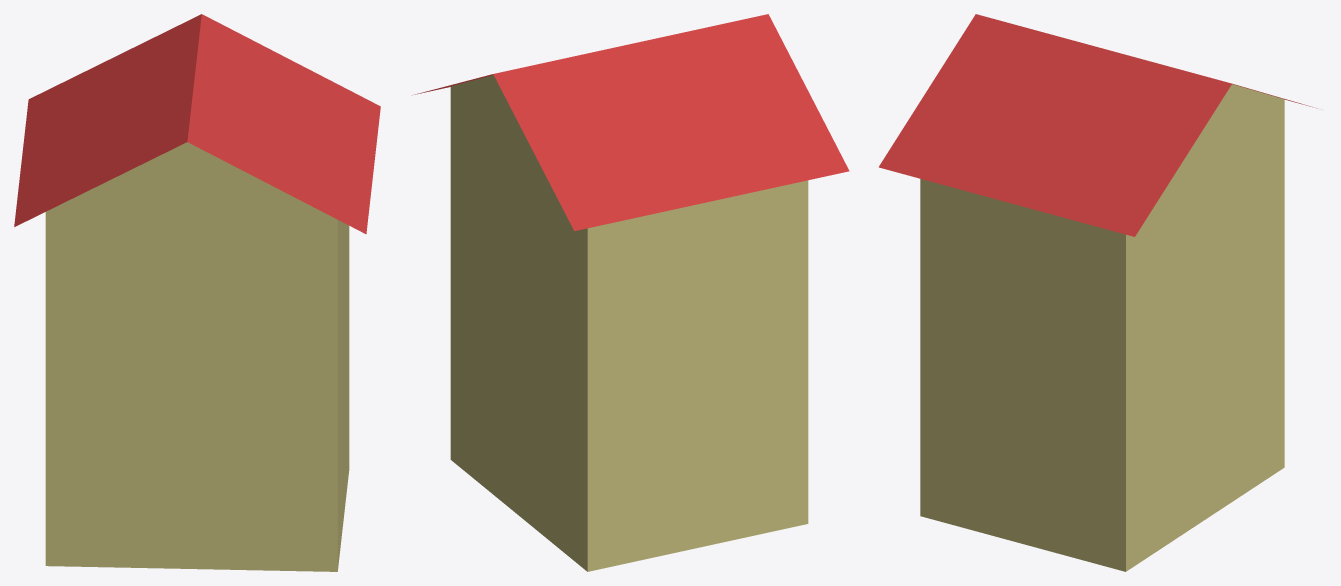
The picture shows the model from 3 angles, left to right: view 1: azimuth 30°, elevation 25°; view 2: azimuth 150°, elevation 25°; view 3: azimuth 270°, elevation 25°; orthographic projection. The views are drawn at different scales.
Visible parts, largest first — view 1: group_5, group_3, group_4; view 2: group_5, group_3, group_4; view 3: group_5, group_3, group_4.
Boxes of the visible parts, x1,y1,x2,y2 form: group_5: (45,142,349,571); group_3: (20,14,380,205); group_4: (14,14,380,233); group_5: (450,75,808,571); group_3: (429,17,848,229); group_4: (412,14,848,230); group_5: (920,84,1284,571); group_3: (920,14,1317,236); group_4: (879,14,1231,236).
Bounding box in the file's own units: 15.29 × 14.8 × 16.11.
